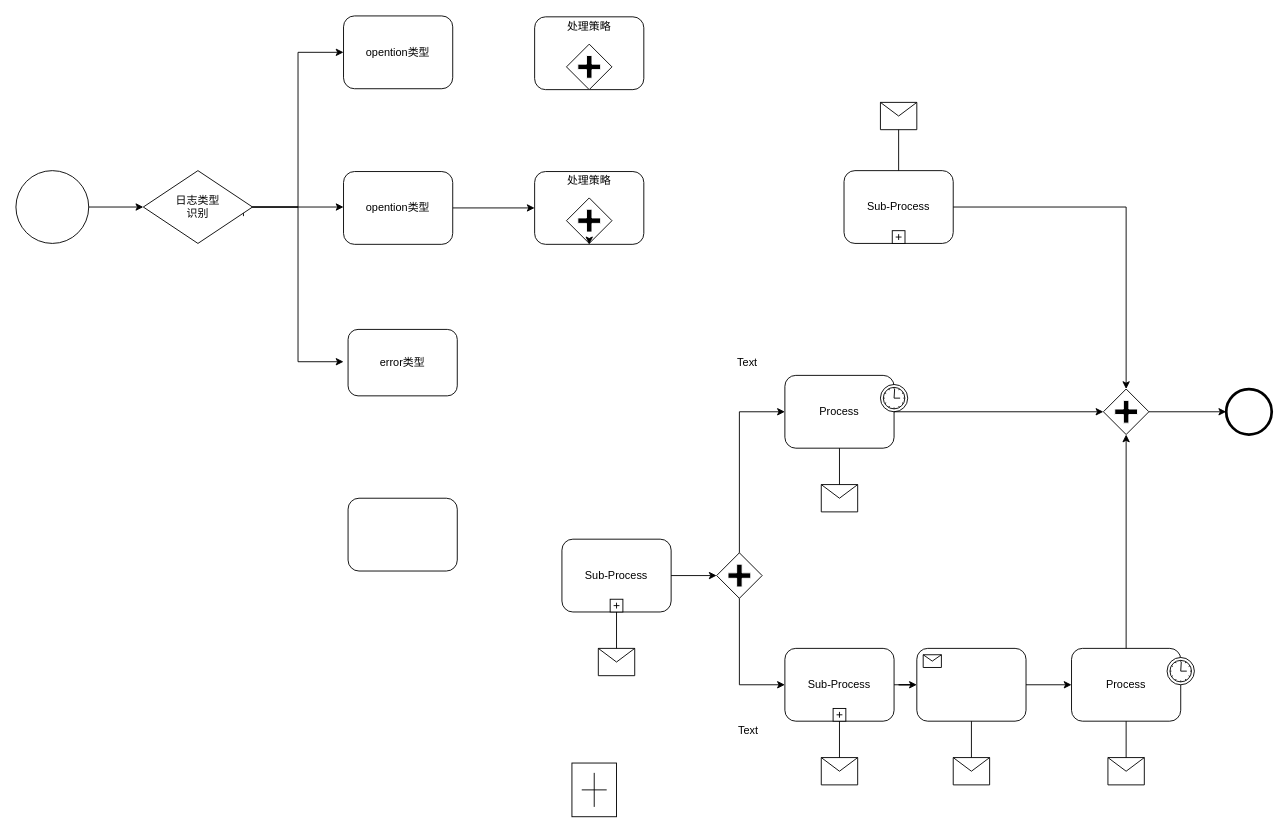
Some shapes in this 1288 by 833 pixel diagram are drawn without their labels. The shapes that lost their labels are listed below. From the top down, each one's centre as x and y in pixels, then its label:
At point 52,206: "开始数据 处理".
At point 402,534: "Task".
At point 971,684: "Receive".
